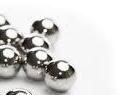ironball: (46, 58, 80, 94), (22, 47, 52, 79), (30, 17, 61, 44), (0, 43, 21, 79), (19, 33, 56, 51), (0, 27, 25, 50), (1, 86, 37, 94), (0, 12, 12, 26)
